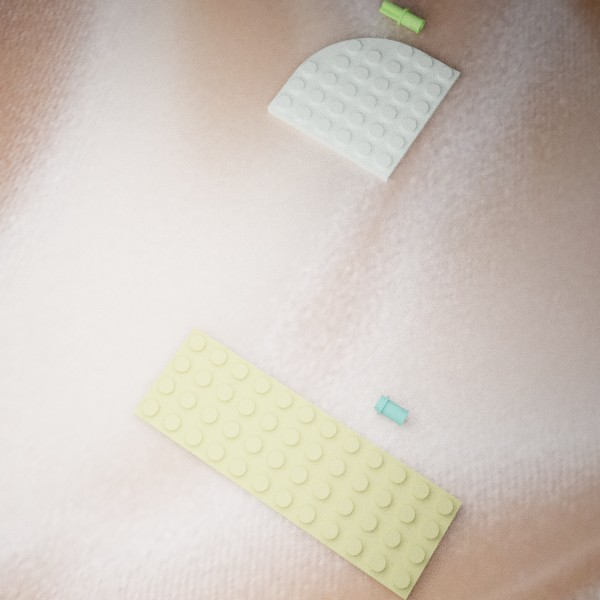lego: (132, 326, 462, 600), (267, 37, 460, 181), (379, 0, 425, 33), (373, 394, 409, 426)
